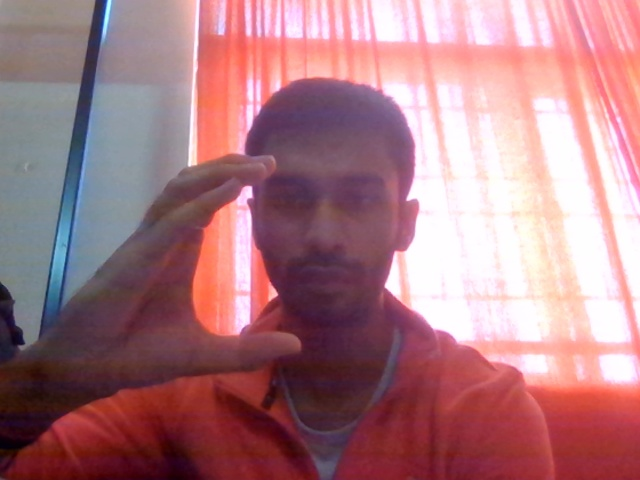C: (11, 147, 299, 412)
